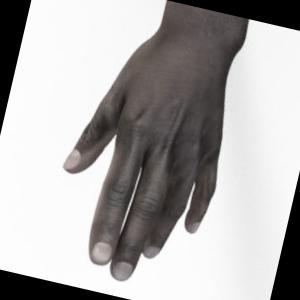paper: (63, 0, 248, 281)
